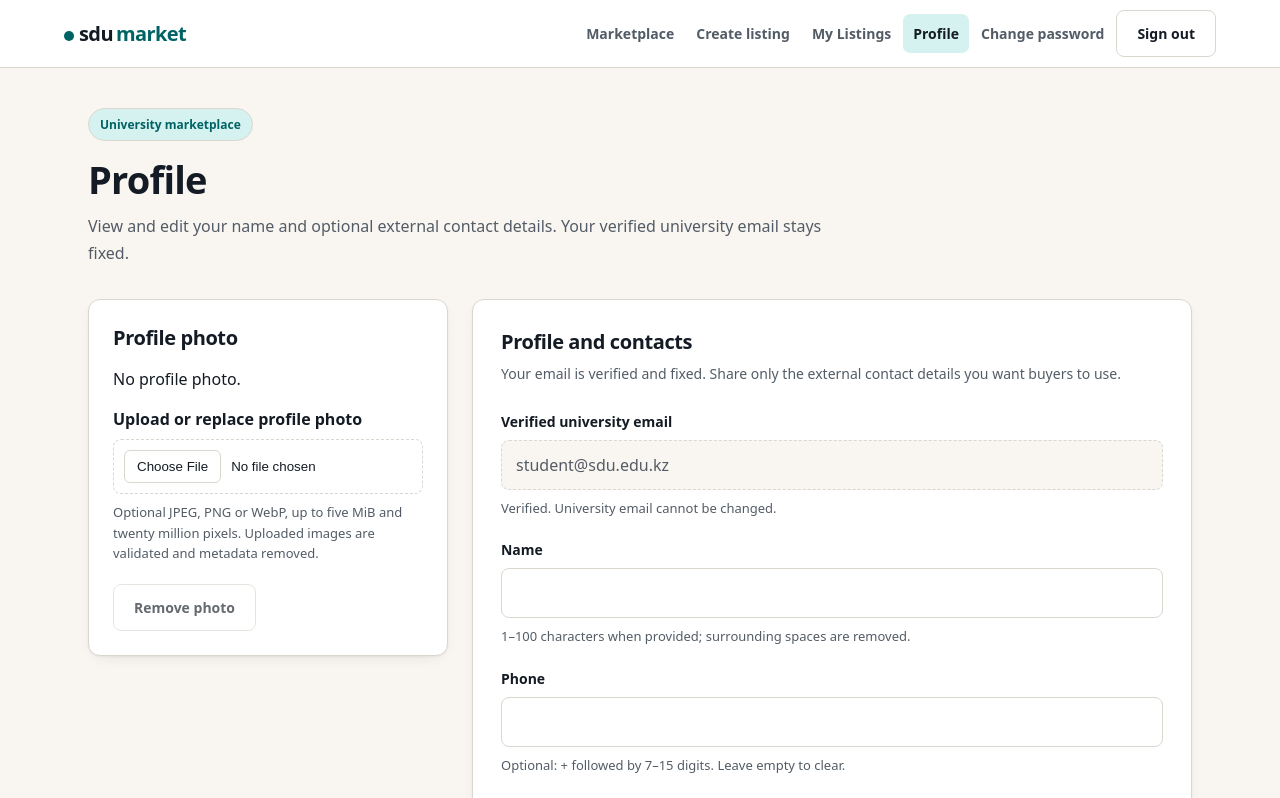
Test: partial save omits untouched null name and takes returned authoritative values as baseline
Type "+77001234567" into the field labelled "Phone" at {"x": 832, "y": 722}, box x1=501 y1=697 x2=1163 y2=747
(page scrolled)
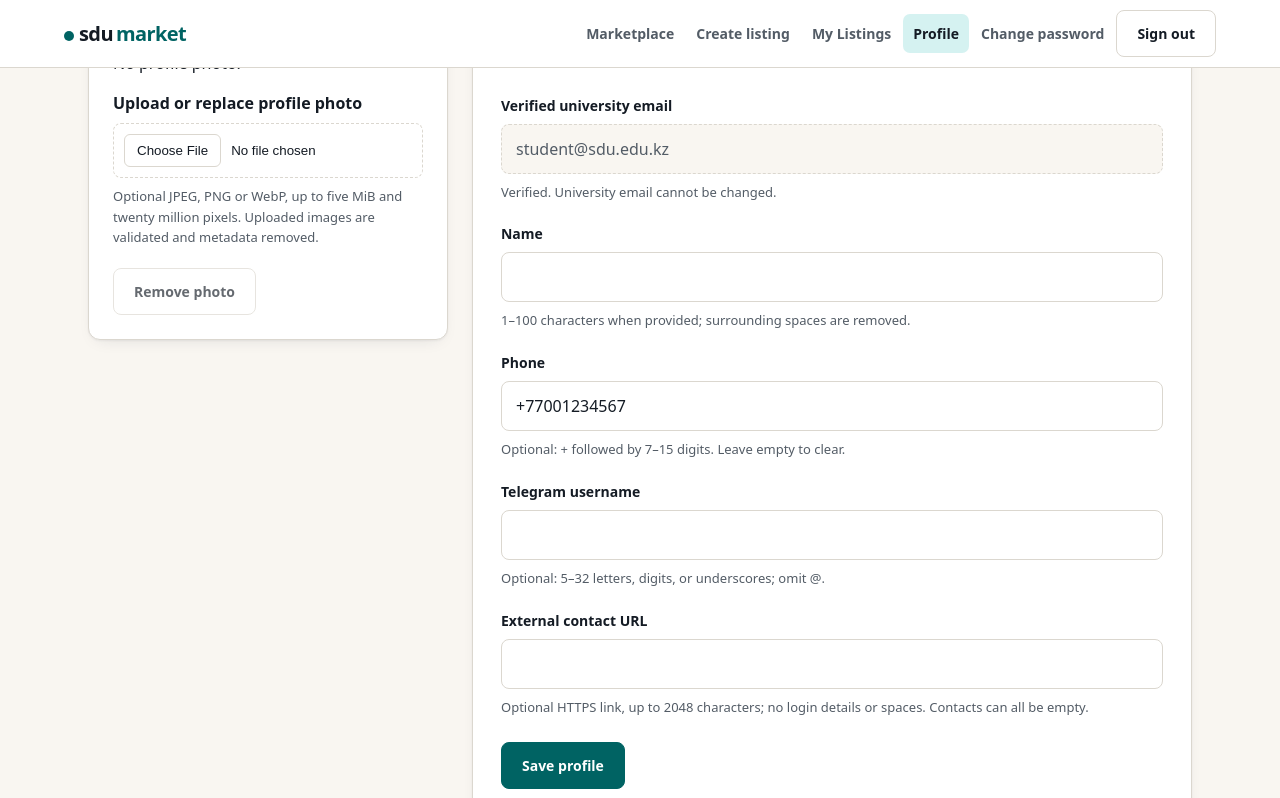
Submit the form named "Own profile"
(page scrolled)
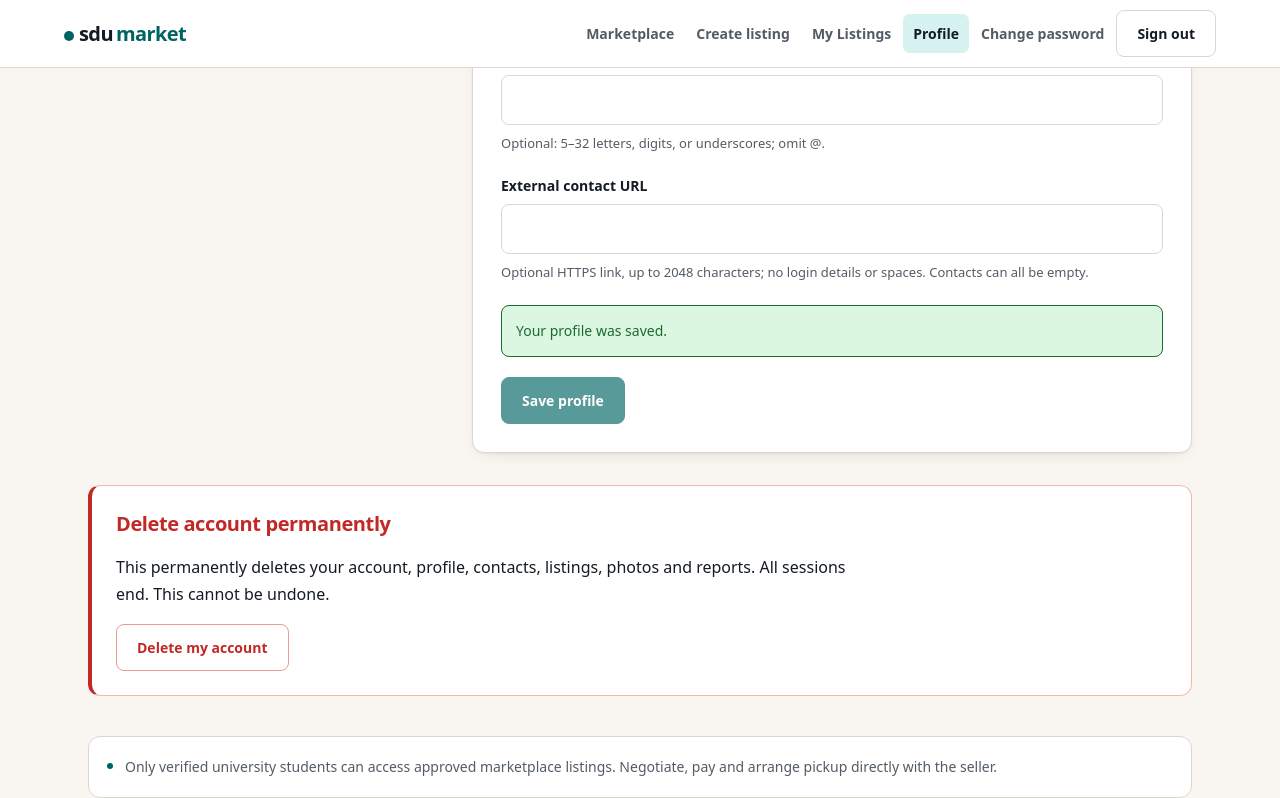
Expected: the text "Your profile was saved." is shown, x1=501 y1=304 x2=1163 y2=357
Expected: the button "Save profile" is disabled, x1=501 y1=377 x2=625 y2=424
